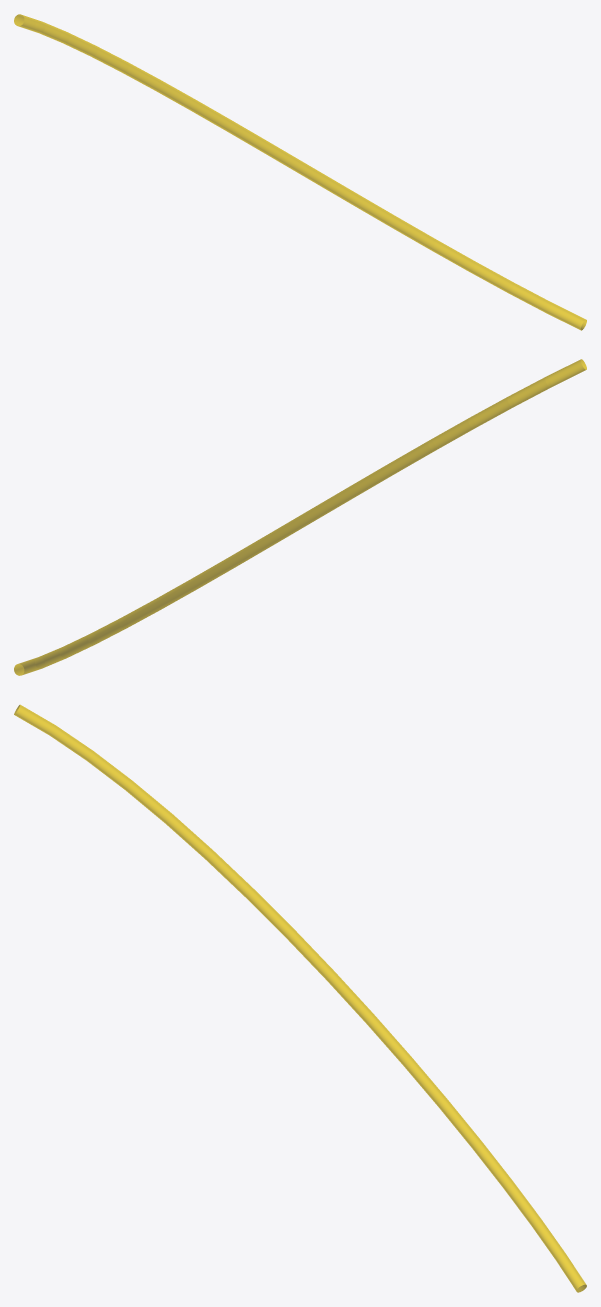
Rendered from Event_17758602_track_23.fbx.
The picture shows the model from 3 angles, top to bottom: view 1: azimuth 30°, elevation 25°; view 2: azimuth 150°, elevation 25°; view 3: azimuth 330°, elevation 25°; orthographic projection.
Parts seen in each view (by area): view 1: Model; view 2: Model; view 3: Model.
Boxes of the visible parts, left/top/right/bottom form: Model: left=14, top=14, right=586, bottom=330; Model: left=14, top=359, right=586, bottom=675; Model: left=14, top=704, right=586, bottom=1292.
Bounding box in the file's own units: 2.18 × 1.65 × 0.2497.
